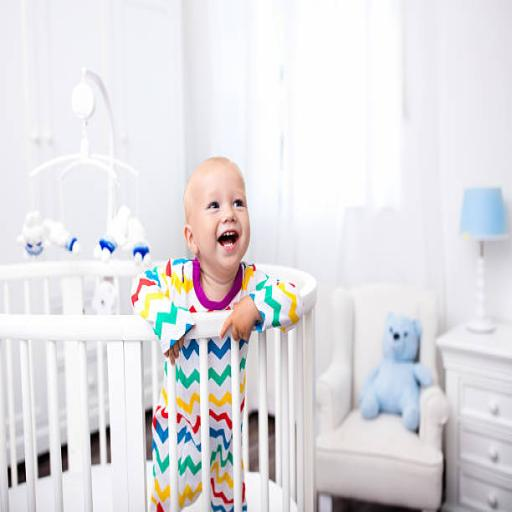baby: (132, 159, 302, 511)
crib: (0, 260, 161, 511)
